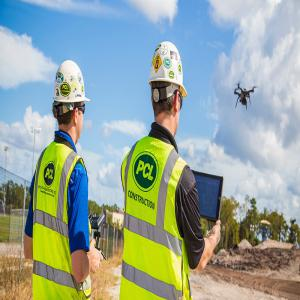white: (150, 42, 184, 131), (53, 62, 87, 141)
